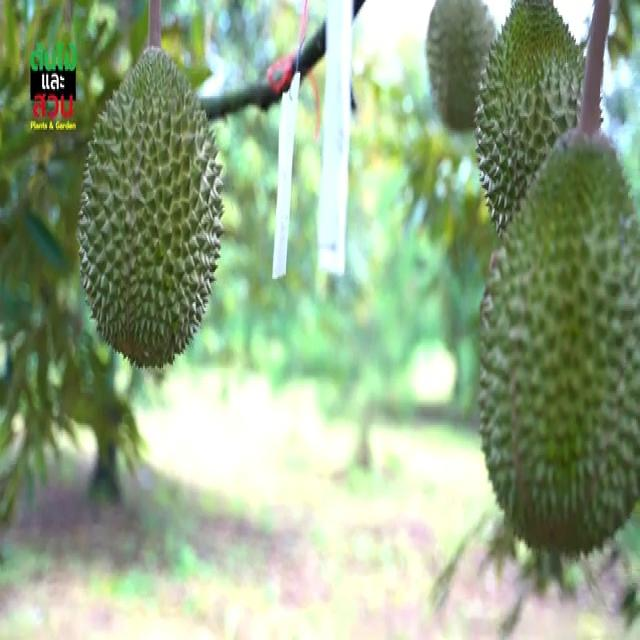durian: (474, 124, 637, 566), (77, 49, 226, 373), (469, 6, 606, 266), (424, 6, 505, 134)
